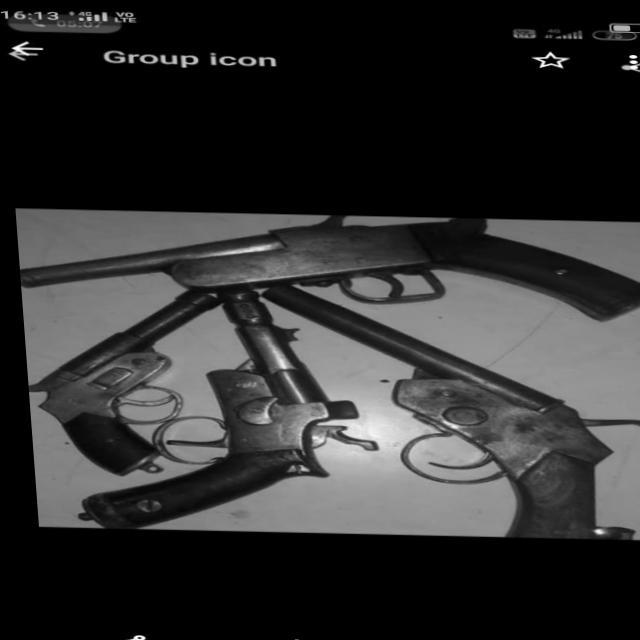weapon: (11, 192, 640, 546)
